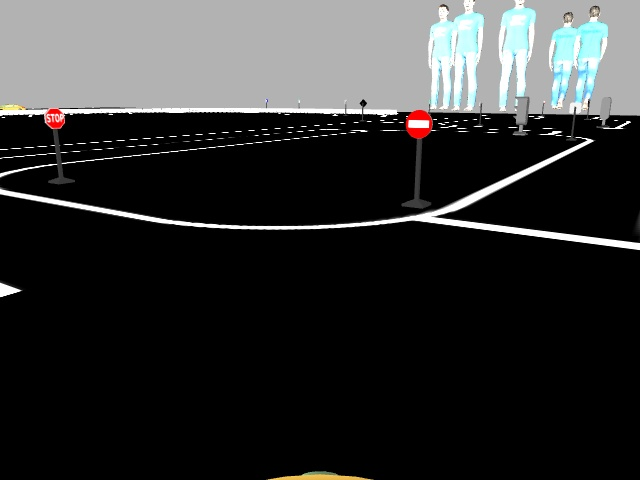NoEntry: (404, 110, 432, 137)
Stop: (41, 108, 66, 126)
